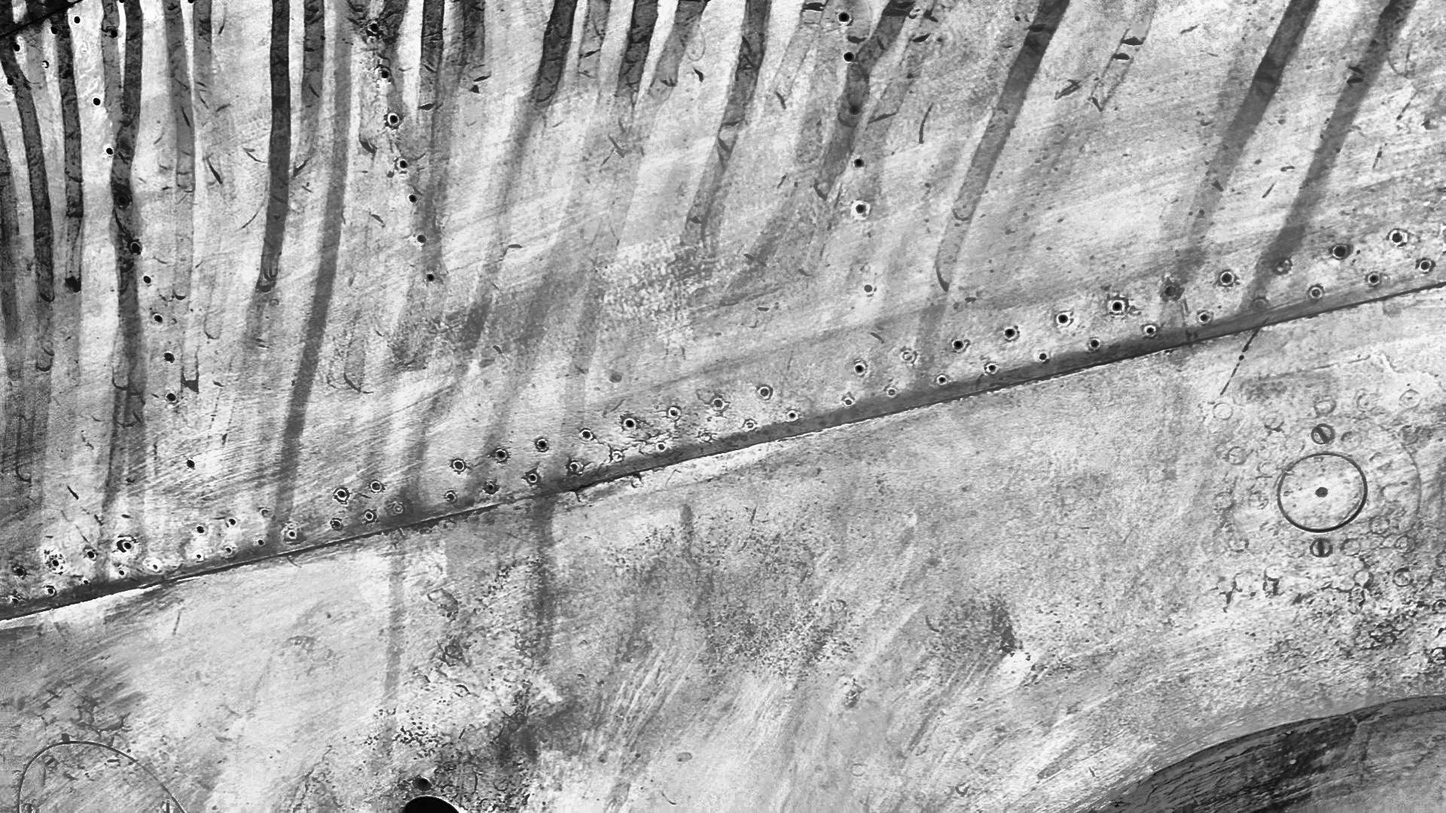missing-head: (950, 336, 966, 354), (368, 20, 383, 38), (384, 111, 401, 126), (116, 539, 136, 551), (47, 554, 62, 569), (837, 11, 851, 27), (494, 447, 508, 462), (1003, 325, 1018, 339), (1335, 242, 1347, 259), (378, 68, 393, 81), (9, 41, 24, 54), (127, 241, 140, 256), (850, 101, 863, 116), (149, 313, 166, 324), (405, 193, 420, 205), (1057, 312, 1069, 327), (45, 586, 57, 601), (446, 488, 458, 503), (854, 360, 865, 376), (624, 416, 637, 429), (536, 438, 548, 452), (1222, 271, 1234, 285), (365, 507, 377, 521), (1145, 324, 1157, 337), (92, 93, 102, 108), (336, 486, 346, 501), (416, 232, 428, 244), (107, 27, 119, 39), (853, 157, 865, 169), (529, 471, 541, 483), (372, 480, 384, 492), (142, 274, 155, 285), (856, 203, 869, 214), (452, 459, 465, 470), (3, 78, 18, 87), (83, 551, 98, 560), (583, 425, 592, 440), (399, 158, 410, 170), (117, 194, 128, 206), (167, 391, 179, 402), (185, 458, 196, 470), (1112, 300, 1122, 313), (11, 569, 27, 577), (1369, 274, 1380, 285), (786, 411, 797, 422), (844, 51, 854, 63), (484, 482, 496, 492), (229, 515, 239, 527), (1199, 312, 1210, 322), (48, 26, 60, 35), (164, 351, 173, 363), (194, 524, 203, 536), (9, 598, 21, 607), (331, 518, 340, 530), (937, 375, 947, 385), (426, 274, 437, 283), (74, 12, 81, 26), (987, 364, 999, 372), (288, 530, 297, 540), (105, 146, 113, 157), (1091, 339, 1100, 348), (117, 0, 127, 8), (117, 569, 127, 577), (258, 537, 265, 547), (83, 578, 90, 587), (187, 0, 193, 6)
scratch: (1220, 318, 1267, 397)
